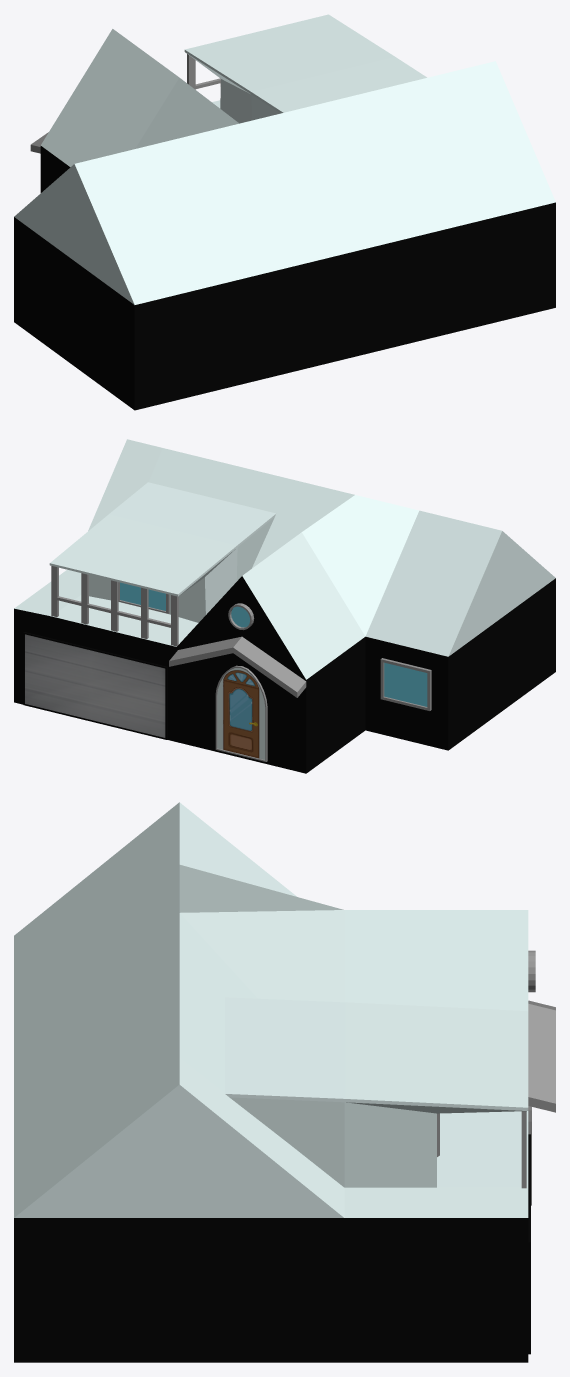
The model's file is CasaLuxo.fbx.
The picture shows the model from 3 angles, top to bottom: view 1: azimuth 30°, elevation 25°; view 2: azimuth 150°, elevation 25°; view 3: azimuth 270°, elevation 25°; orthographic projection. The views are drawn at different scales.
Parts seen in each view (by area): view 1: CasaLuxo; view 2: CasaLuxo; view 3: CasaLuxo.
Part boxes in pixels (<box>): CasaLuxo: <box>14,14,555,410</box>; CasaLuxo: <box>14,439,555,773</box>; CasaLuxo: <box>14,802,555,1362</box>.
Bounding box in the file's own units: 2367 × 1099 × 1920.
